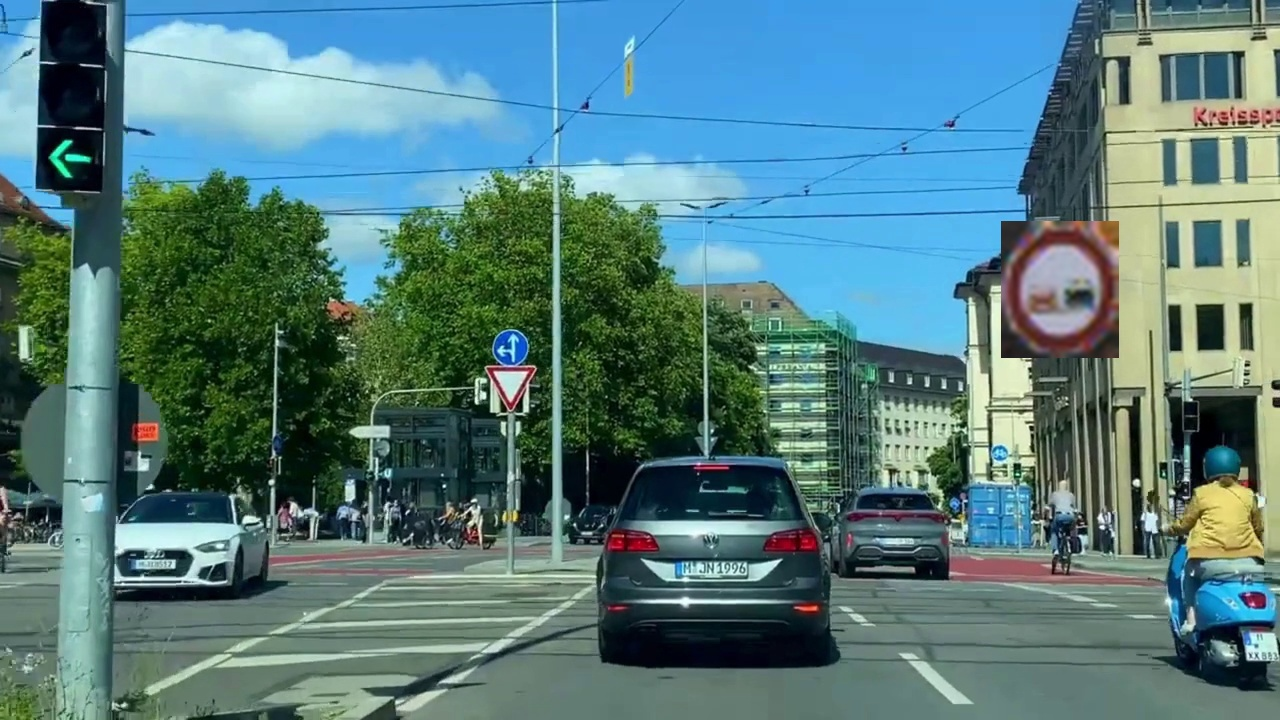No passing: (1001, 221, 1119, 358)
